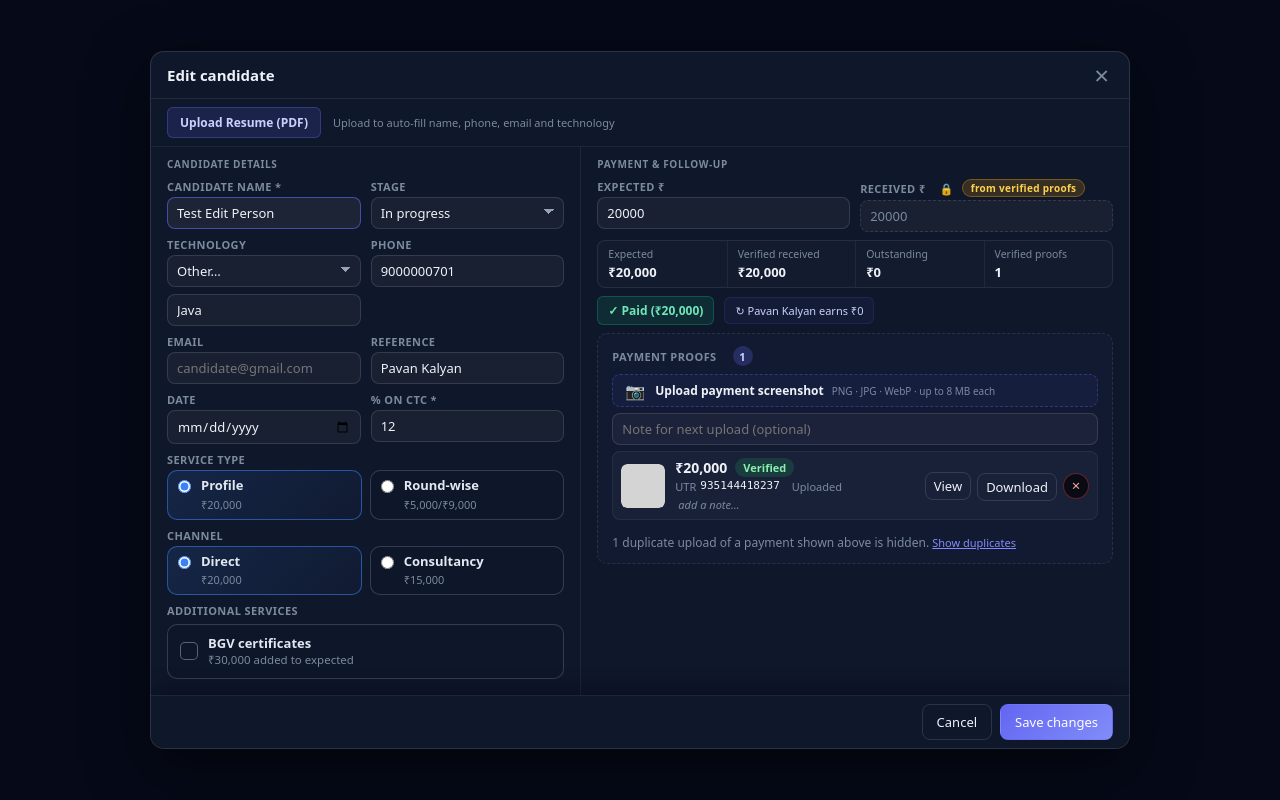
4. Lost screenshots and duplicate displays › one payment uploaded twice is one card, with the copy reachable
Expected: the number of list items with class "cand-proof-card" is 1, [612,451,1098,520]
Expected: the text with class "cand-proofs-count" reads "1", [739,349,746,364]
Click the button "Show duplicates".
click(974, 543)  # box [932,535,1016,550]
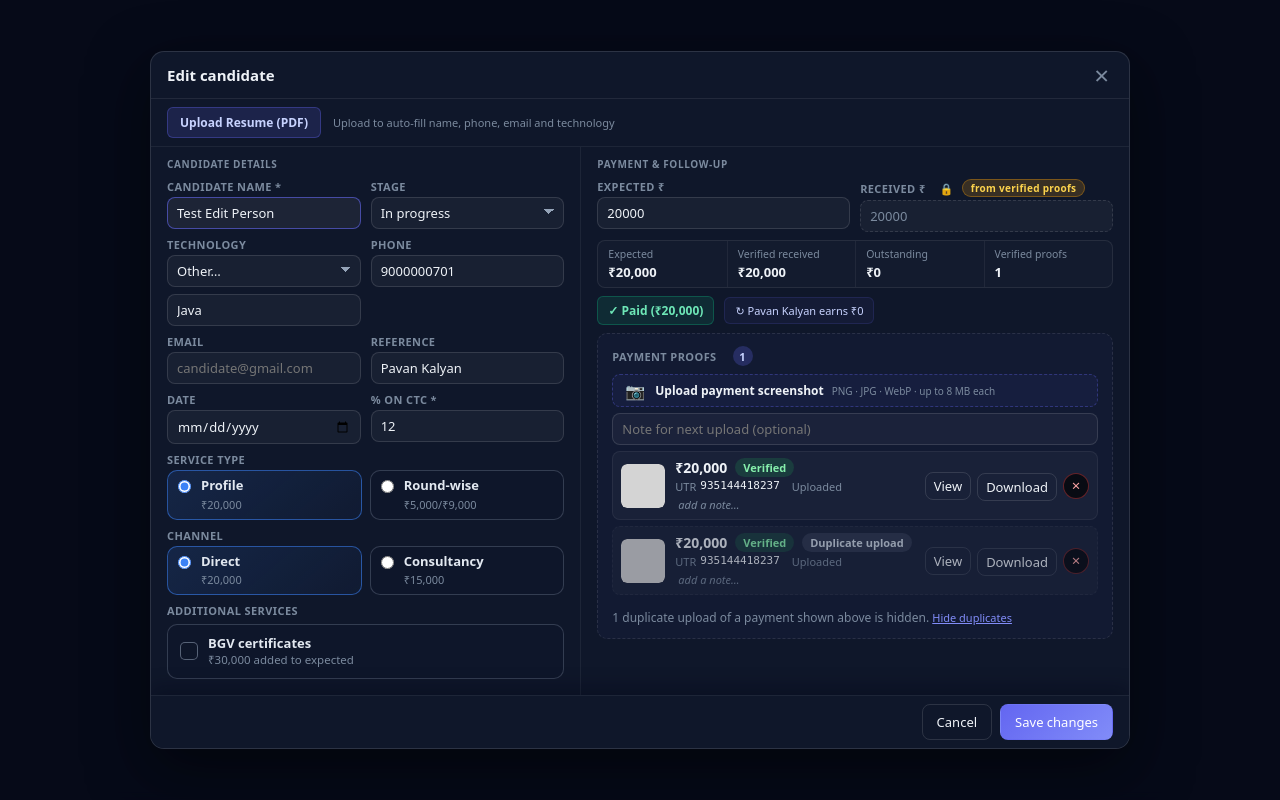
Expected: the number of list items with class "cand-proof-card" is 2, [612,451,1098,520]; [612,526,1098,595]
Expected: the text "Duplicate upload" is shown, [802,533,912,552]
